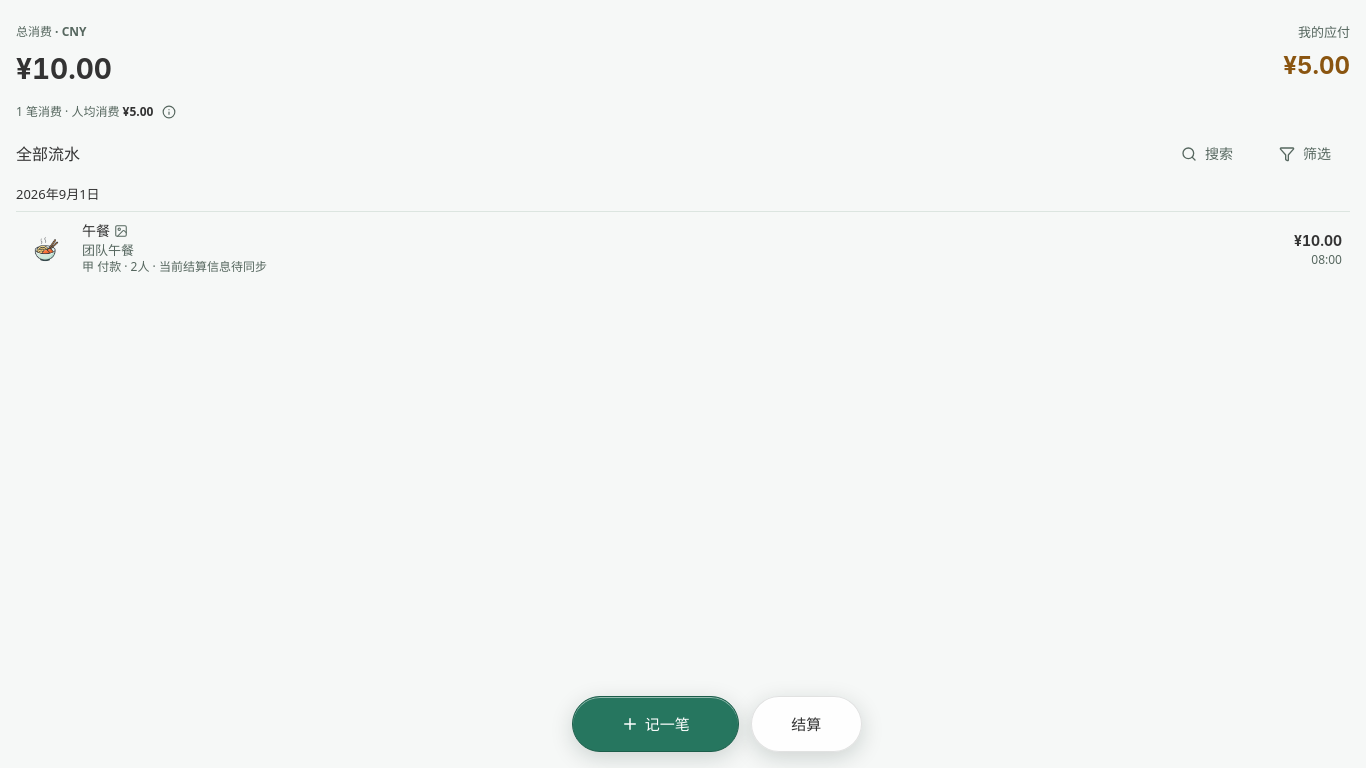
人均消费说明 › 点击后显示完整说明，Escape 关闭并恢复触发器焦点
Click the button named "人均消费说明" at (170, 112), box x1=158 y1=100 x2=182 y2=124
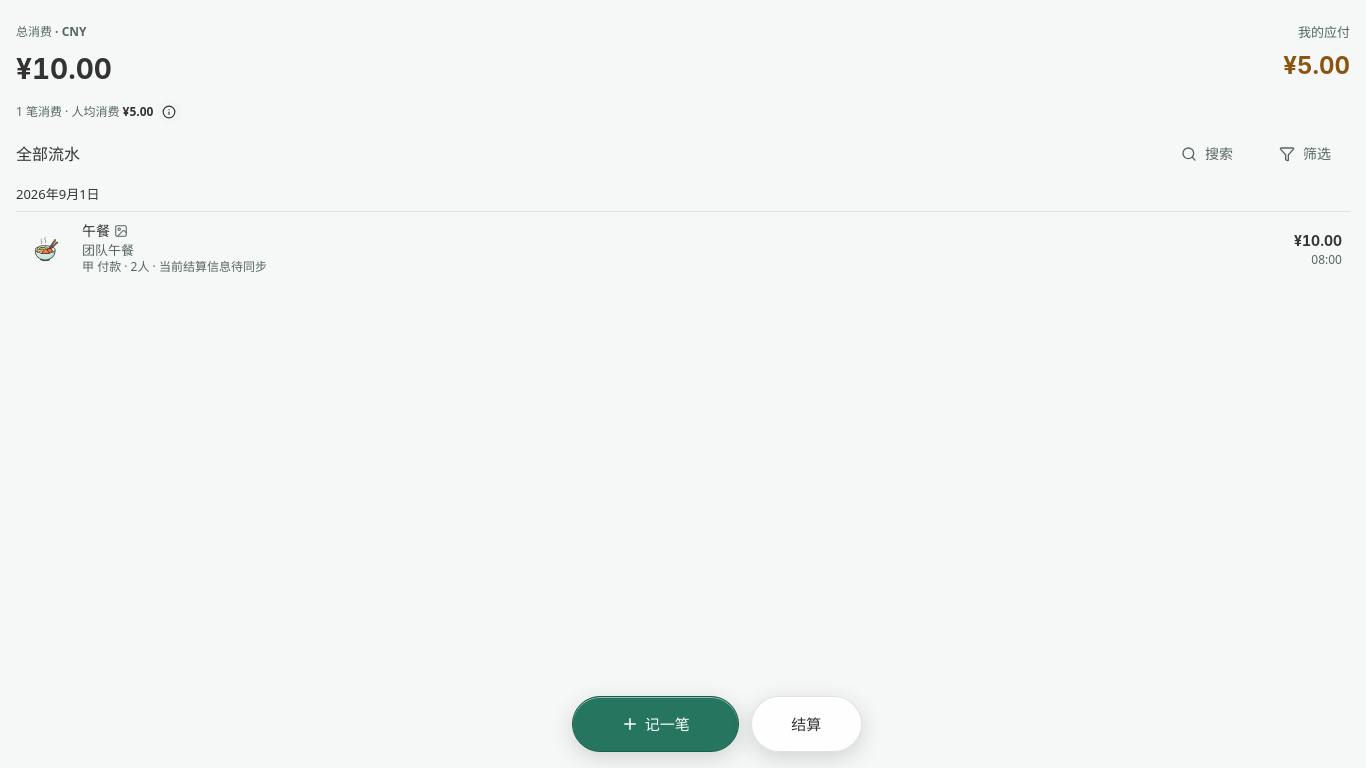
Check: the button named "人均消费说明" is expanded, box x1=158 y1=100 x2=182 y2=124
Press Escape
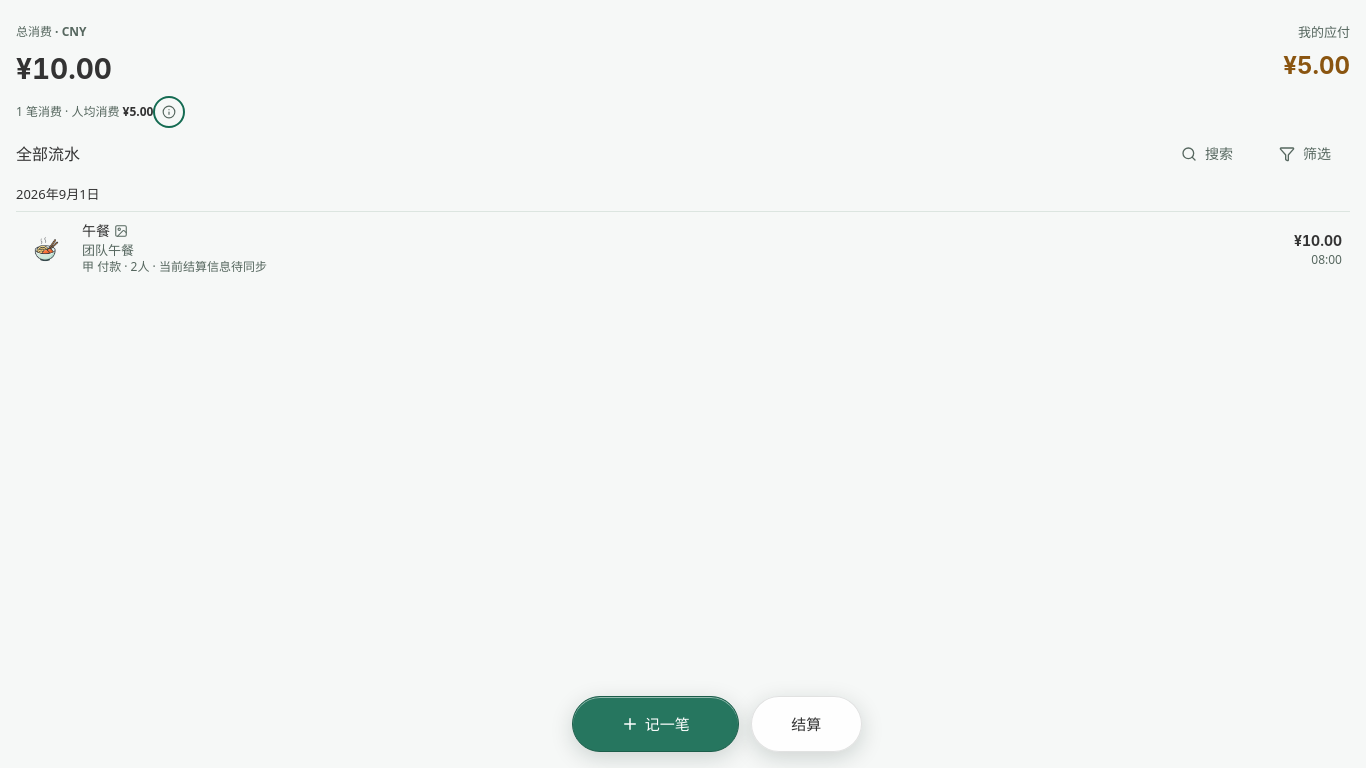
Check: the text "人均消费仅为统计平均值，不代表任何成员实际应承担金额。" is gone
